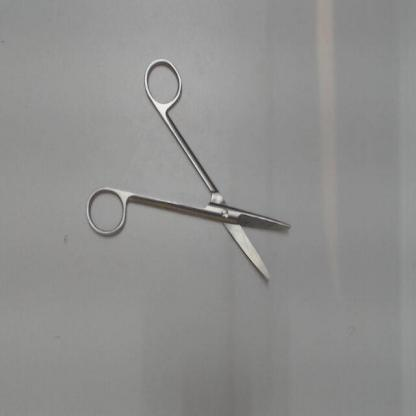Curved Mayo Scissors: (82, 50, 300, 293)
